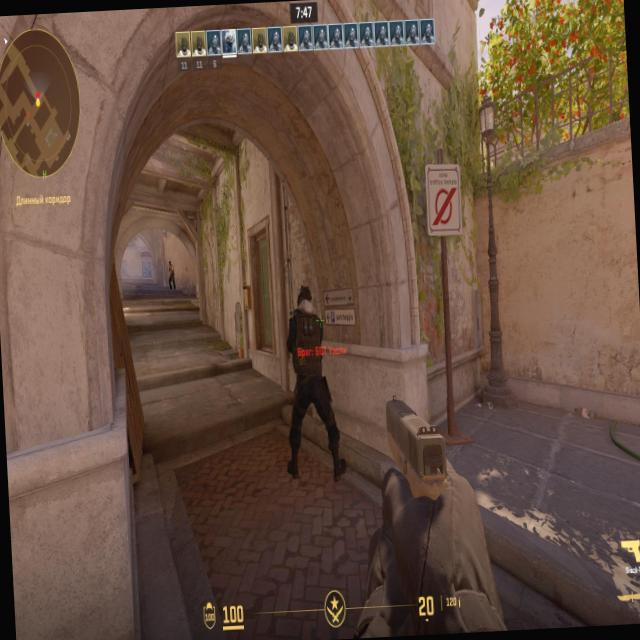CT: (291, 288, 343, 490)
CT_heat: (299, 290, 312, 310)
T: (168, 260, 174, 286)
T_heat: (170, 262, 172, 267)
